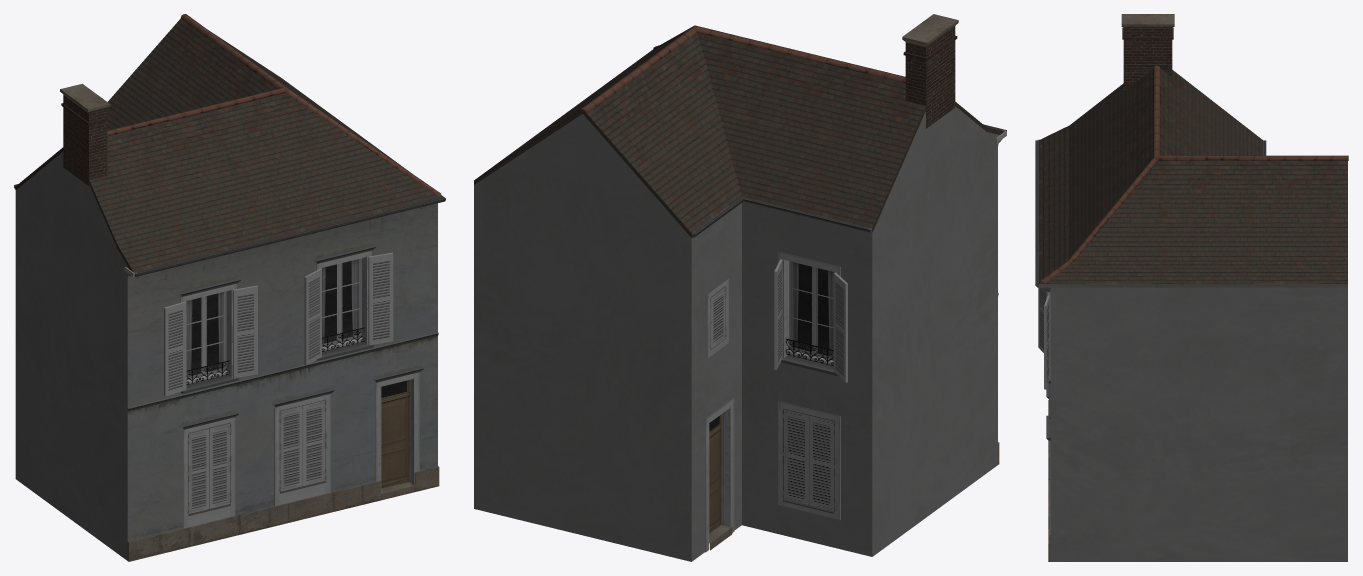
Rendered from troyes_house_3_france.glb.
3 views of the same model, side by side, from view 1: azimuth 30°, elevation 25°; view 2: azimuth 150°, elevation 25°; view 3: azimuth 270°, elevation 25° (orthographic). The views are drawn at different scales.
Parts seen in each view (by area): view 1: 18_gray_0; view 2: 18_gray_0; view 3: 18_gray_0.
Boxes of the visible parts, x1=… form: 18_gray_0: x1=14, y1=14, x2=445, y2=561; 18_gray_0: x1=474, y1=14, x2=1006, y2=561; 18_gray_0: x1=1035, y1=14, x2=1348, y2=561.
Bounding box in the file's own units: 8.06 × 10.46 × 7.36.
Materials: 1 (1 with a texture image).
